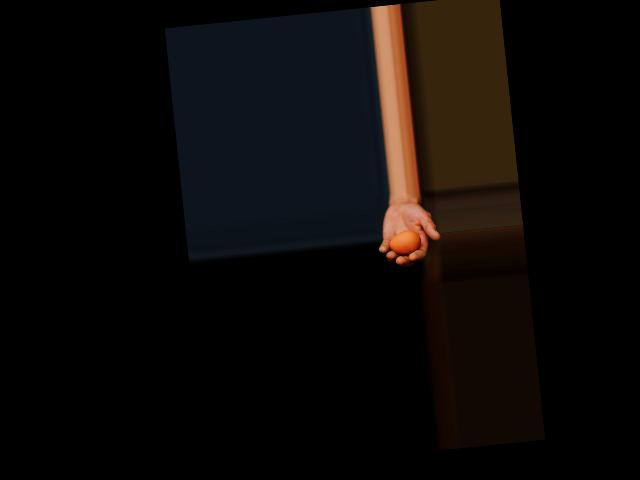egg: (387, 229, 421, 255)
